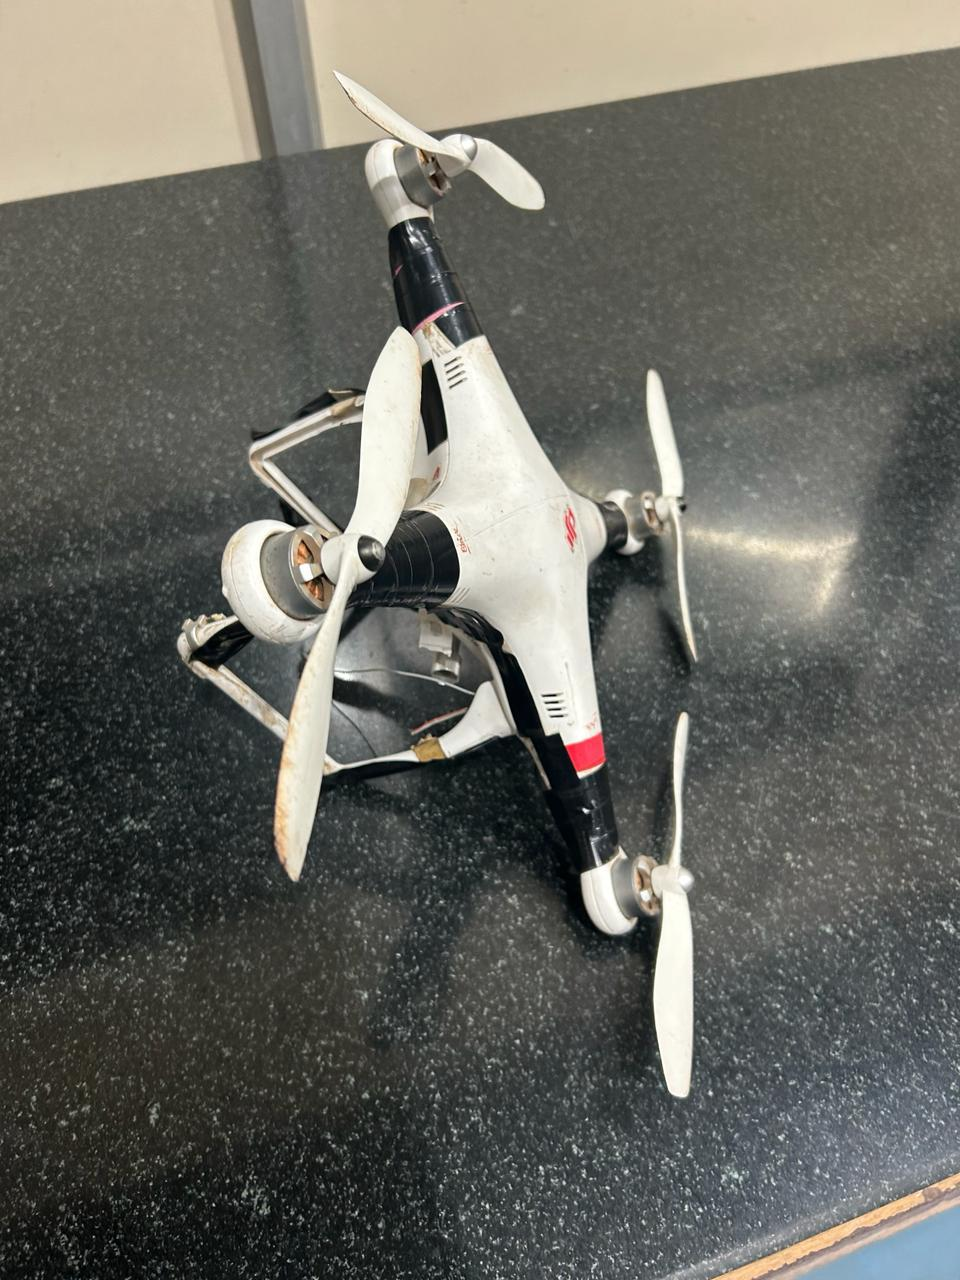drone: (114, 40, 881, 1127)
